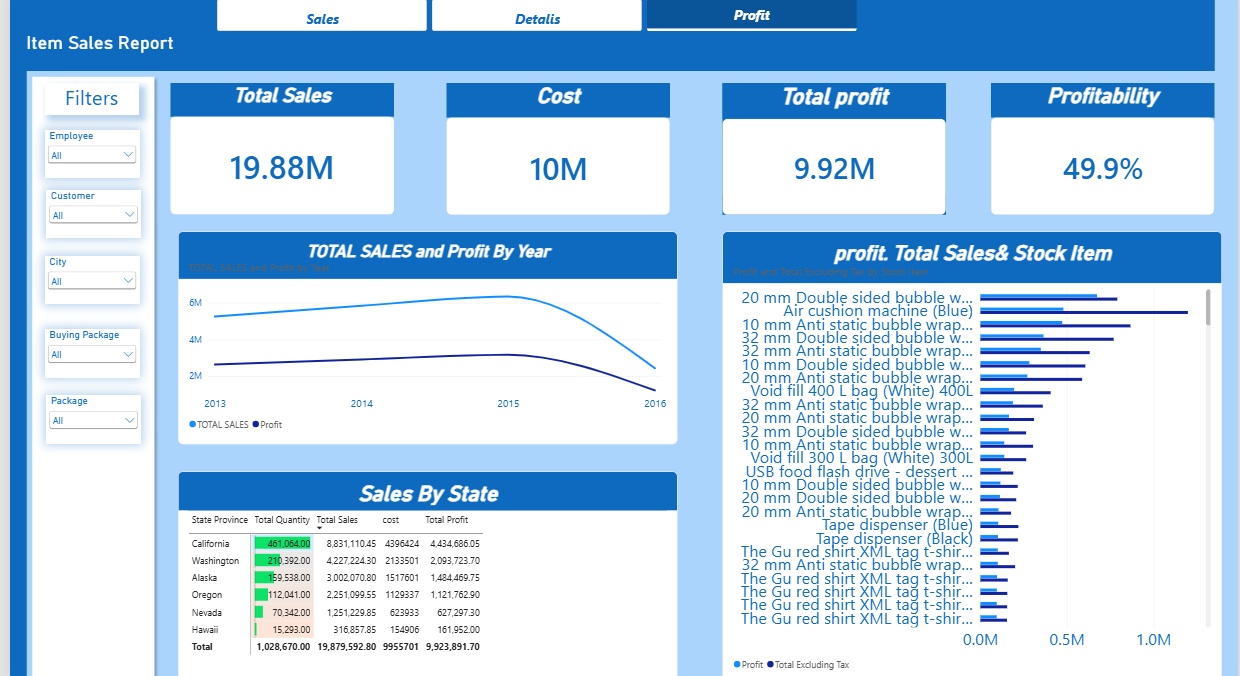

The dashboard page shown, as its layout file describes it:
{"tool":"powerbi","page":{"name":"Profit","canvas":[1920,1080],"ordinal":2},"visuals":[{"type":"shape","box":[0,0,1882.6,121.9],"z":0},{"type":"shape","box":[0,121.9,25.8,958.9],"z":1000},{"type":"shape","box":[25.8,121,208.7,958.9],"z":2000},{"type":"textbox","box":[25.8,61,513.4,39.9],"z":3000},{"type":"cardVisual","title":"Profitability","fields":{"Data":["FactSale.Profitability"]},"box":[1533.3,140.7,349.3,206.3],"z":4000},{"type":"cardVisual","title":"Total profit","fields":{"Data":["Sum(FactSale.Profit)"]},"box":[1113.6,140.7,349.3,206.3],"z":5000},{"type":"cardVisual","title":"Cost","fields":{"Data":["Sum(FactSale.cost)"]},"box":[682.2,140.7,349.3,206.3],"z":6000},{"type":"cardVisual","title":"Total Sales","fields":{"Data":["Sum(FactSale.Total Excluding Tax)"]},"box":[250.9,140.7,349.3,206.3],"z":7000},{"type":"textbox","box":[53.9,140.7,147.7,49.2],"z":8000},{"type":"lineChart","title":"TOTAL SALES and Profit By Year","fields":{"Category":["DimDate.Date.Variation.Date Hierarchy.Year","DimDate.Date.Variation.Date Hierarchy.Quarter","DimDate.Date.Variation.Date Hierarchy.Month","DimDate.Date.Variation.Date Hierarchy.Day"],"Y":["FactSale.TOTAL SALES","Sum(FactSale.Profit)"]},"box":[262.9,372.6,780.7,332.9],"z":9000},{"type":"clusteredBarChart","title":"profit. Total Sales& Stock Item","fields":{"Category":["DimStockltm.Stock Item"],"Y":["Sum(FactSale.Profit)","Sum(FactSale.Total Excluding Tax)"]},"box":[1114,371.9,780.7,708],"z":10000},{"type":"pivotTable","title":"Sales By State","fields":{"Rows":["DimCity.State Province"],"Values":["Sum(FactSale.Quantity)","Sum(FactSale.Total Excluding Tax)","Sum(FactSale.cost)","Sum(FactSale.Profit)"]},"box":[262.9,748.4,780.7,332.9],"z":11000},{"type":"slicer","fields":{"Values":["DimEmployee.Employee"]},"box":[53.2,212.9,148.4,75.8],"z":12000},{"type":"slicer","fields":{"Values":["DimCustomer.Customer"]},"box":[56.5,308.1,148.4,75.8],"z":13000},{"type":"slicer","fields":{"Values":["DimCity.City"]},"box":[53.2,411.3,148.4,75.8],"z":14000},{"type":"slicer","fields":{"Values":["DimStockltm.Buying Package"]},"box":[53.2,524.2,148.4,75.8],"z":15000},{"type":"slicer","fields":{"Values":["FactSale.Package"]},"box":[56.5,629,148.4,75.8],"z":16000},{"type":"pageNavigator","box":[322.8,10.5,1000,50],"z":17000}]}

Visuals, with their boxes on the page's 1920x1080 design canvas (x1, y1, x2, y2). These are canvas units, not pixel positions in the 1240x676 screenshot, which may show the page scaled, cropped or inside an application window:
shape: bbox=(0, 0, 1883, 122)
shape: bbox=(0, 122, 26, 1081)
shape: bbox=(26, 121, 234, 1080)
textbox: bbox=(26, 61, 539, 101)
"Profitability" cardVisual: bbox=(1533, 141, 1883, 347)
"Total profit" cardVisual: bbox=(1114, 141, 1463, 347)
"Cost" cardVisual: bbox=(682, 141, 1032, 347)
"Total Sales" cardVisual: bbox=(251, 141, 600, 347)
textbox: bbox=(54, 141, 202, 190)
"TOTAL SALES and Profit By Year" lineChart: bbox=(263, 373, 1044, 706)
"profit. Total Sales& Stock Item" clusteredBarChart: bbox=(1114, 372, 1895, 1080)
"Sales By State" pivotTable: bbox=(263, 748, 1044, 1081)
slicer - DimEmployee.Employee: bbox=(53, 213, 202, 289)
slicer - DimCustomer.Customer: bbox=(56, 308, 205, 384)
slicer - DimCity.City: bbox=(53, 411, 202, 487)
slicer - DimStockltm.Buying Package: bbox=(53, 524, 202, 600)
slicer - FactSale.Package: bbox=(56, 629, 205, 705)
pageNavigator: bbox=(323, 10, 1323, 60)
